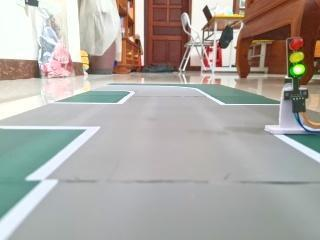green: (282, 31, 309, 85)
